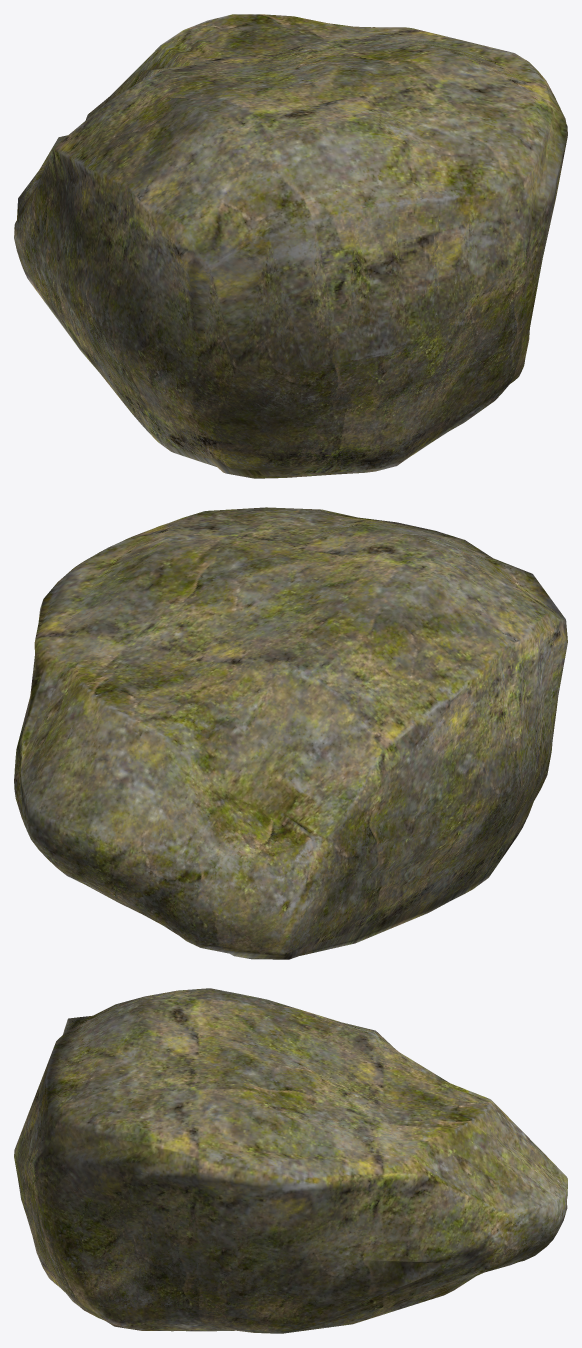
Rendered from rock(smooth).fbx.
The picture shows the model from 3 angles, top to bottom: view 1: azimuth 30°, elevation 25°; view 2: azimuth 150°, elevation 25°; view 3: azimuth 270°, elevation 25°; orthographic projection. The views are drawn at different scales.
Parts seen in each view (by area): view 1: rock_low_poly:pCube1; view 2: rock_low_poly:pCube1; view 3: rock_low_poly:pCube1.
Part boxes in pixels (<box>): rock_low_poly:pCube1: <box>14,14,567,478</box>; rock_low_poly:pCube1: <box>14,507,567,959</box>; rock_low_poly:pCube1: <box>14,988,567,1333</box>.
Bounding box in the file's own units: 2.42 × 1.76 × 3.03.
Materials: 1 (1 with a texture image).
